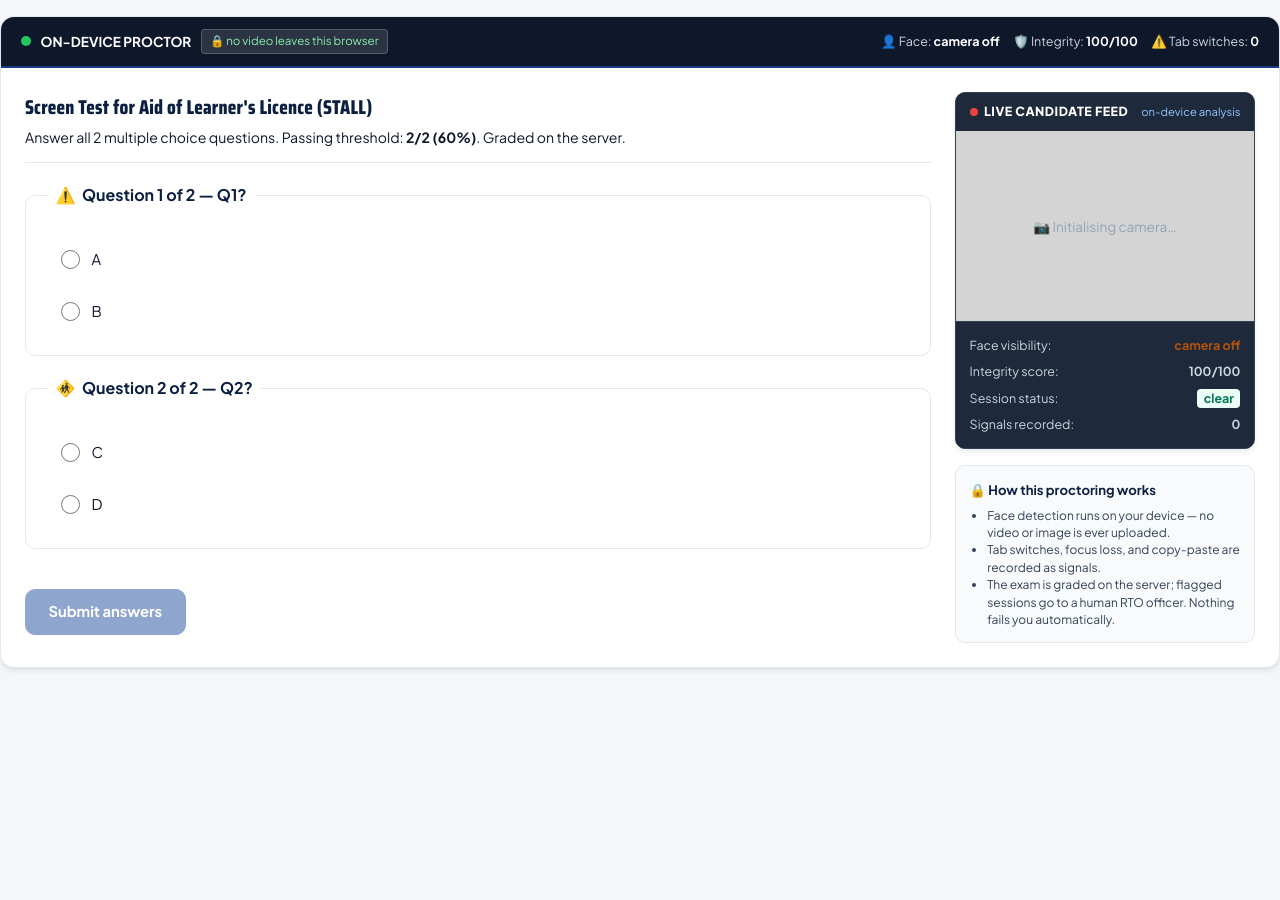
LLQuiz (server-graded) › offers a no-penalty retry when the server says failed
The image size is (1280, 900).
Click the radio button labelled "B". click: [70, 311]
box: 61,302 -> 80,321
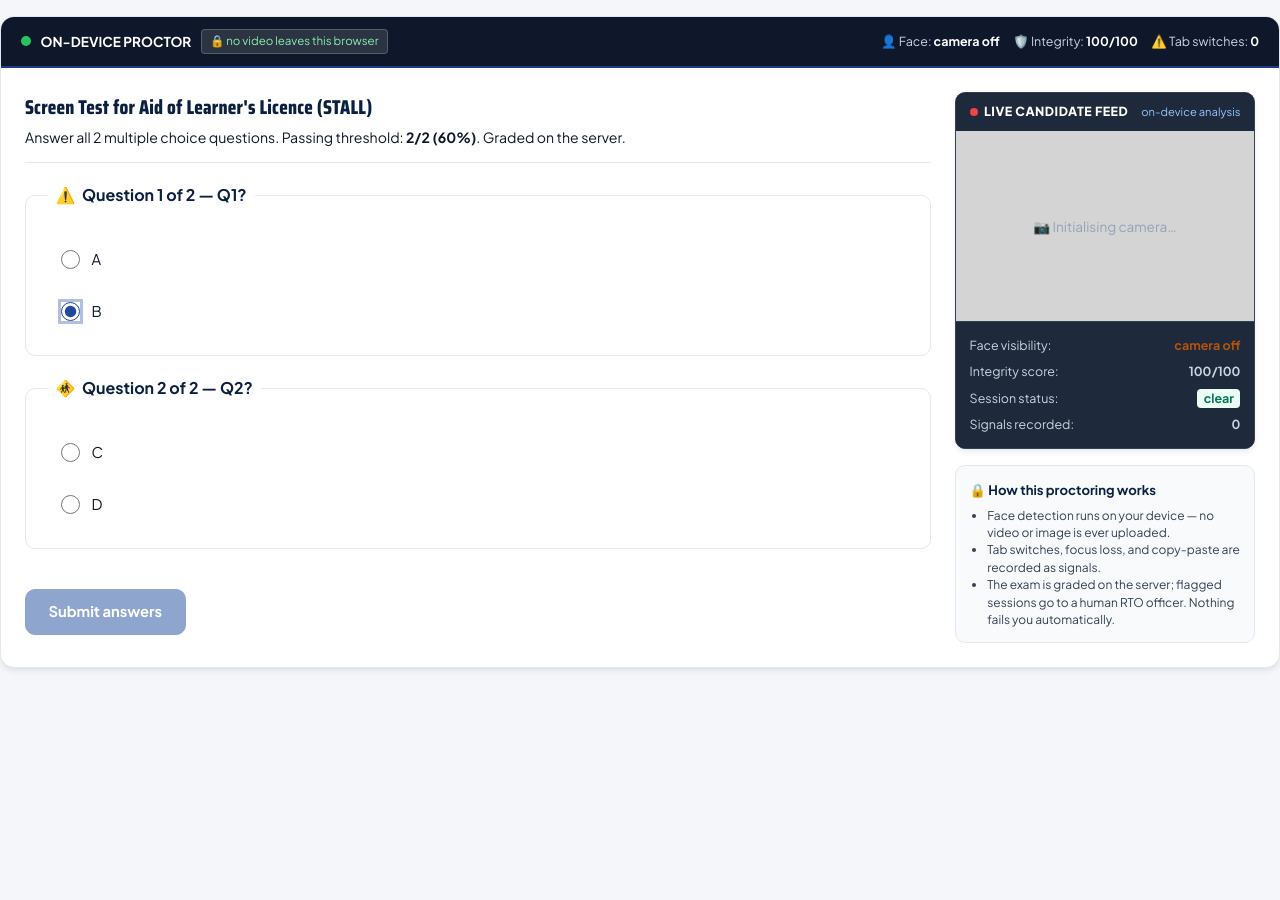
Click the radio button labelled "C". click: [70, 452]
box: 61,443 -> 80,462
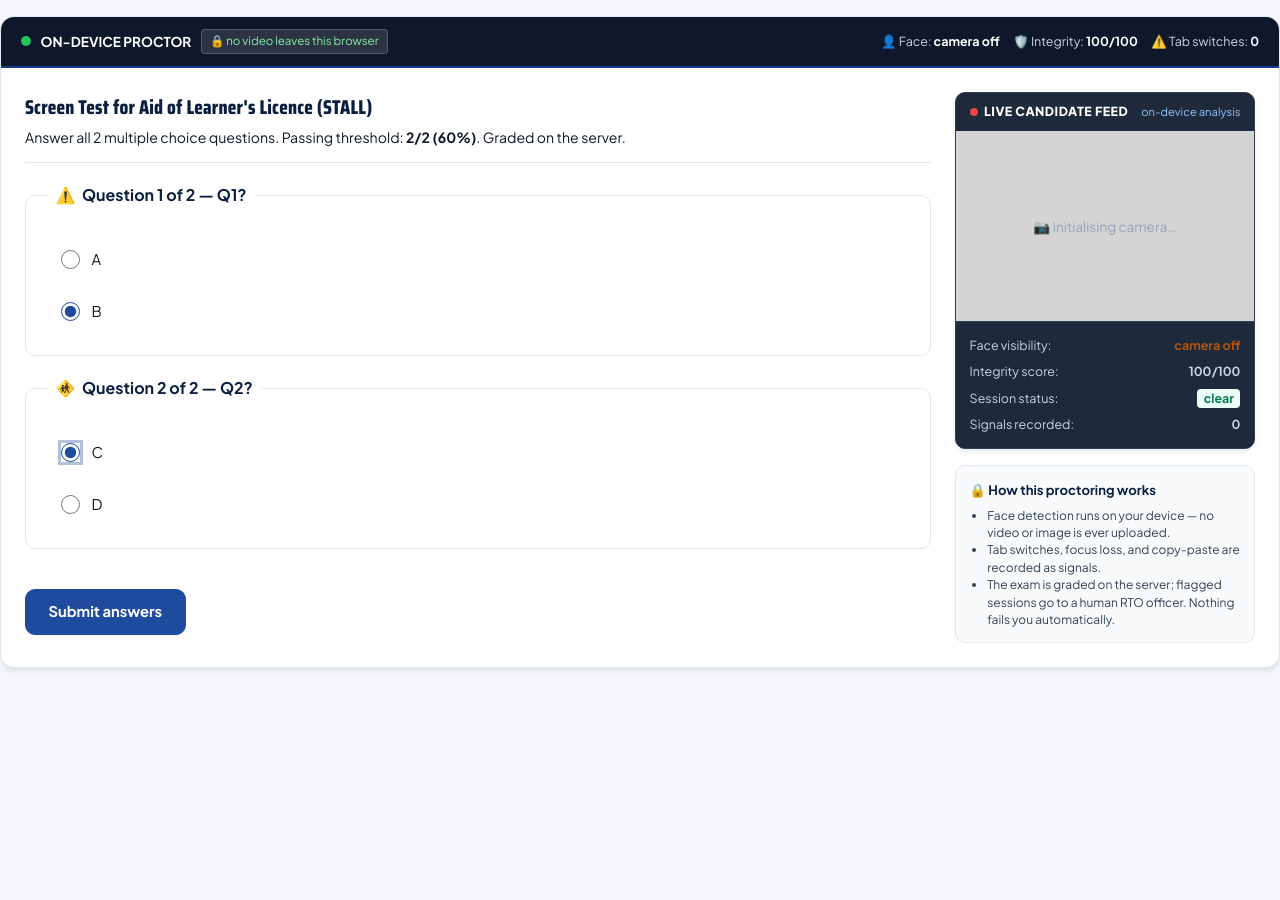
Click the button "Submit answers". click: [105, 612]
box: 25,589 -> 186,635
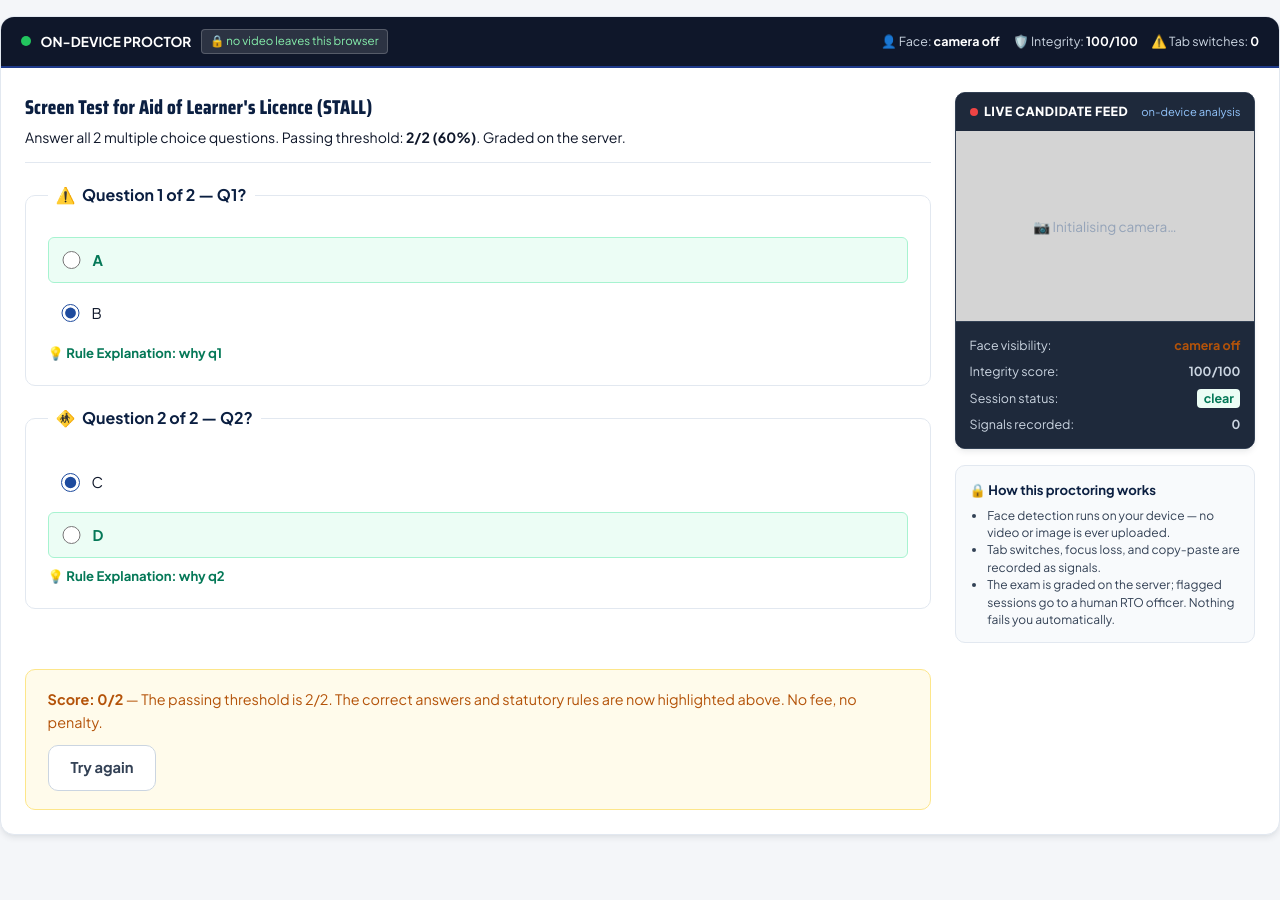
Now the text "No fee, no penalty" is shown, box 48,690 -> 857,731
Click the button "Try again". click: [102, 768]
box: 48,745 -> 156,790
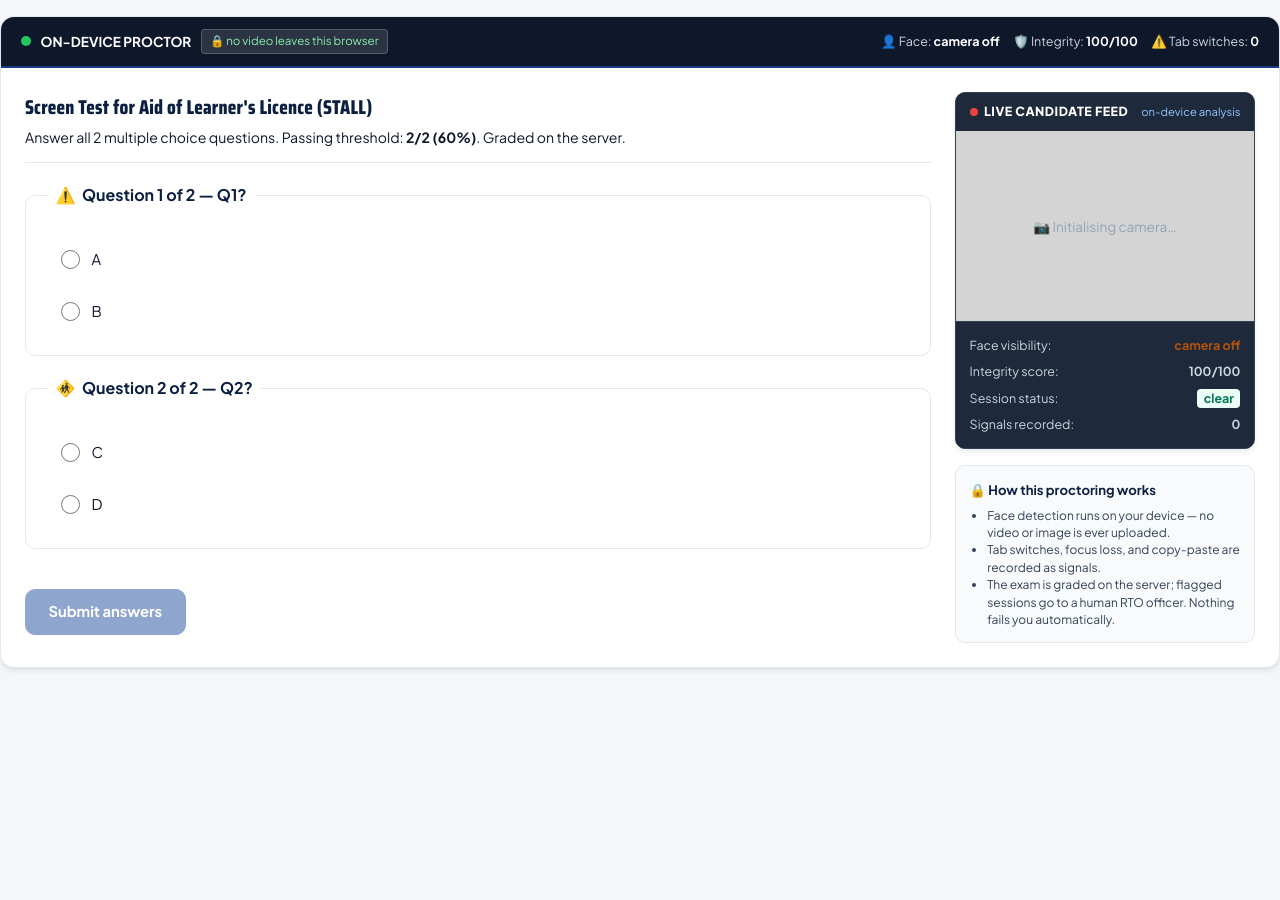
Now the button "Submit answers" is disabled, box 25,589 -> 186,635
